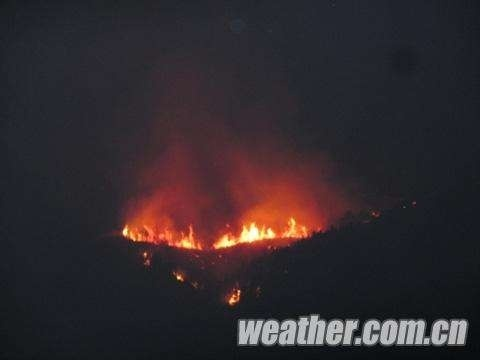fire: (122, 210, 320, 251)
